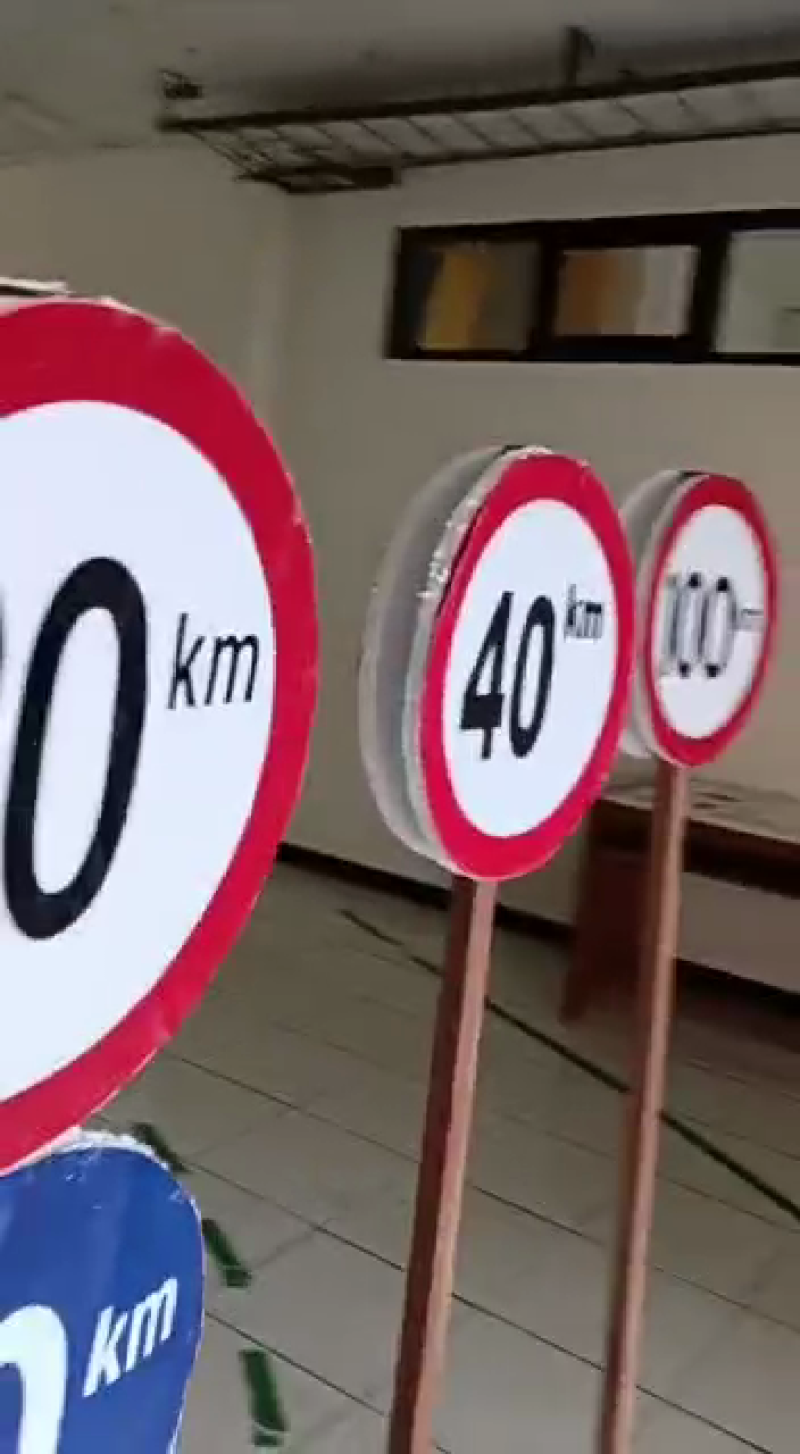batas maksimal 100kmperjam: (629, 466, 779, 769)
batas maksimal 40kmperjam: (400, 444, 642, 883)
